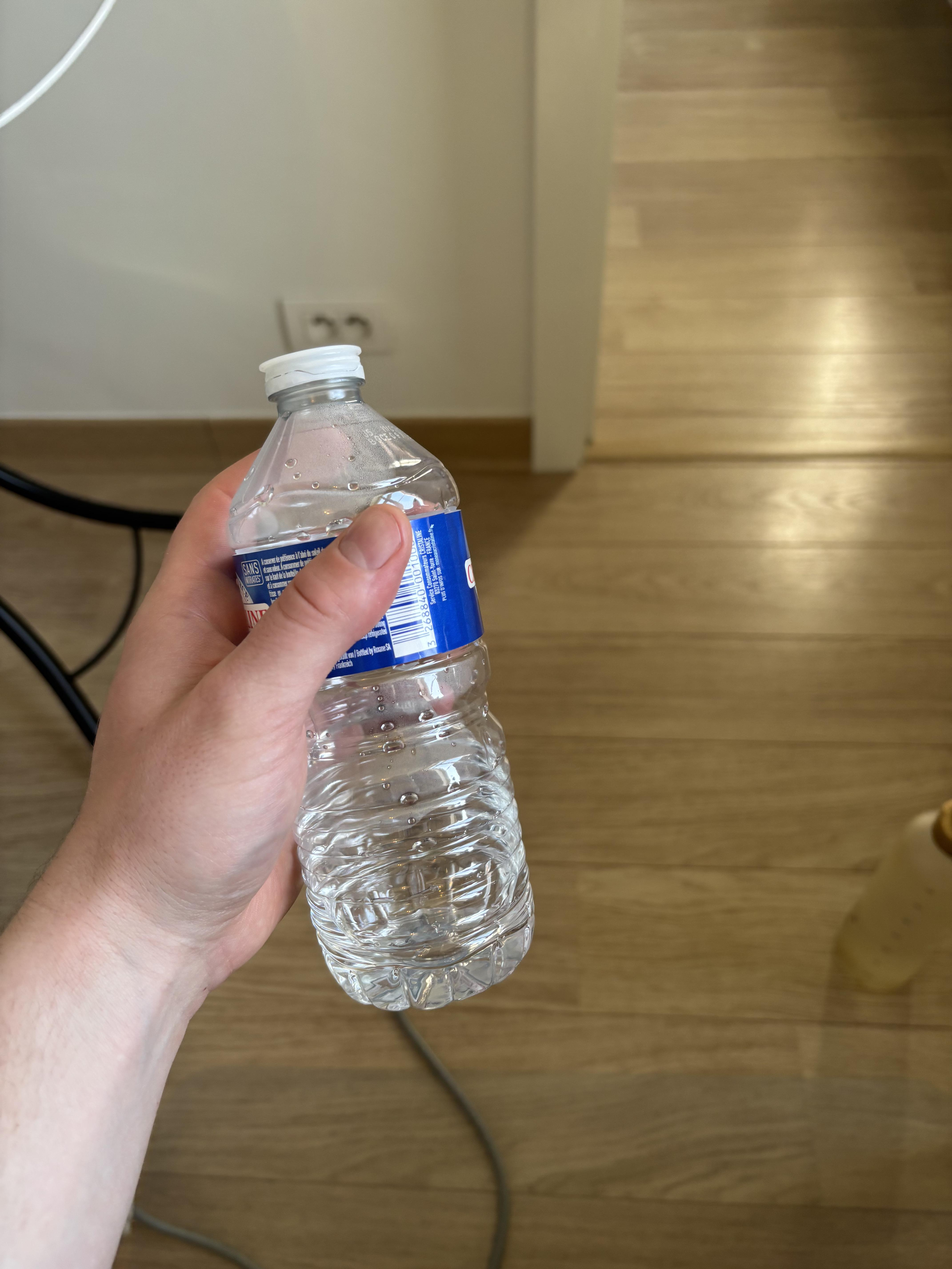Plastic: (222, 342, 548, 1026), (833, 795, 952, 1004)
